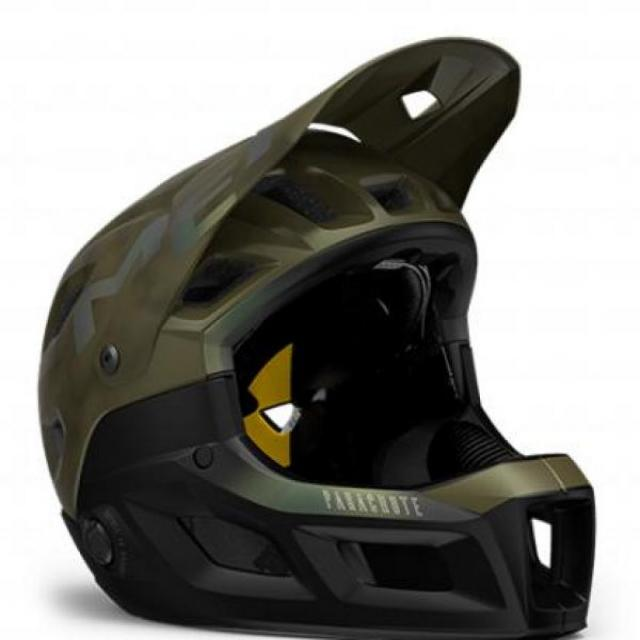Helmet: (40, 34, 600, 640)
